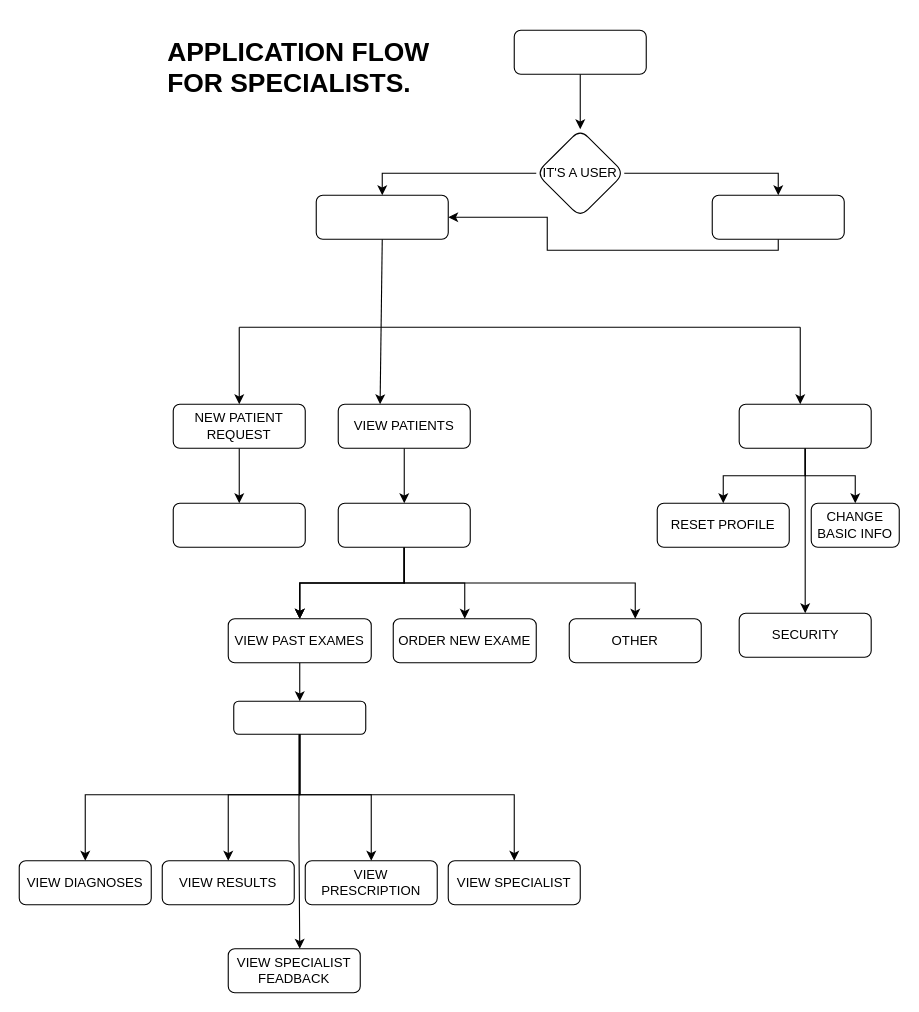
The diagram is 919 pixels wide and 1012 high, and some of its shapes have lost their labels. The shapes that lost their labels are listed below. From the top down, each one's centre as x and y in pixels, then its label:
(x=579, y=51): APPICATION REQUEST
(x=381, y=216): LOGIN
(x=777, y=216): QUICK REGISTER
(x=804, y=425): PROFILE SETTINGS
(x=238, y=524): CANCEL REQUEST
(x=403, y=524): PATIENT
(x=299, y=717): THE EXAME
